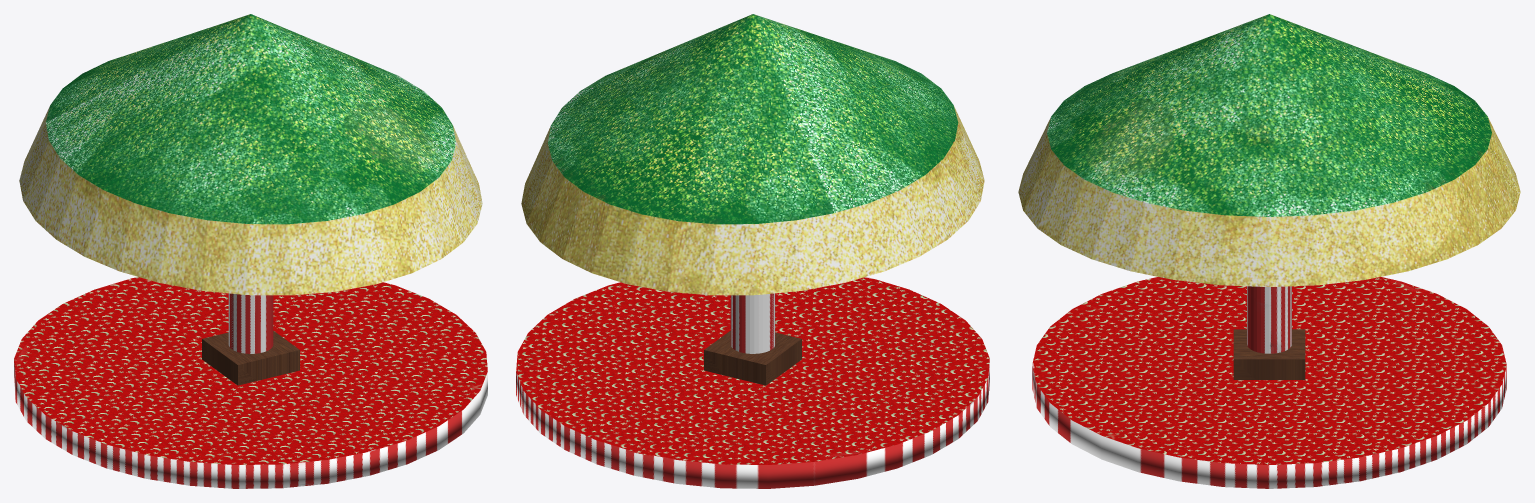
File: MerryGoRound 1.fbx
The picture shows the model from 3 angles, left to right: view 1: azimuth 30°, elevation 25°; view 2: azimuth 150°, elevation 25°; view 3: azimuth 270°, elevation 25°; orthographic projection.
Parts seen in each view (by area): view 1: Roof, Floor, Stand, Pole; view 2: Roof, Floor, Stand, Pole; view 3: Roof, Floor, Pole, Stand.
Part boxes in pixels (box(x1,y1,x2,y2)): Roof: box(19, 14, 482, 295); Floor: box(14, 277, 487, 488); Stand: box(202, 331, 299, 385); Pole: box(228, 293, 273, 353); Roof: box(521, 14, 984, 295); Floor: box(516, 277, 989, 488); Stand: box(704, 331, 801, 385); Pole: box(730, 293, 775, 353); Roof: box(1018, 14, 1520, 286); Floor: box(1032, 277, 1506, 488); Pole: box(1247, 286, 1291, 353); Stand: box(1233, 329, 1305, 379).
Size of the model in its own units: 3600 by 3620 by 3811.
